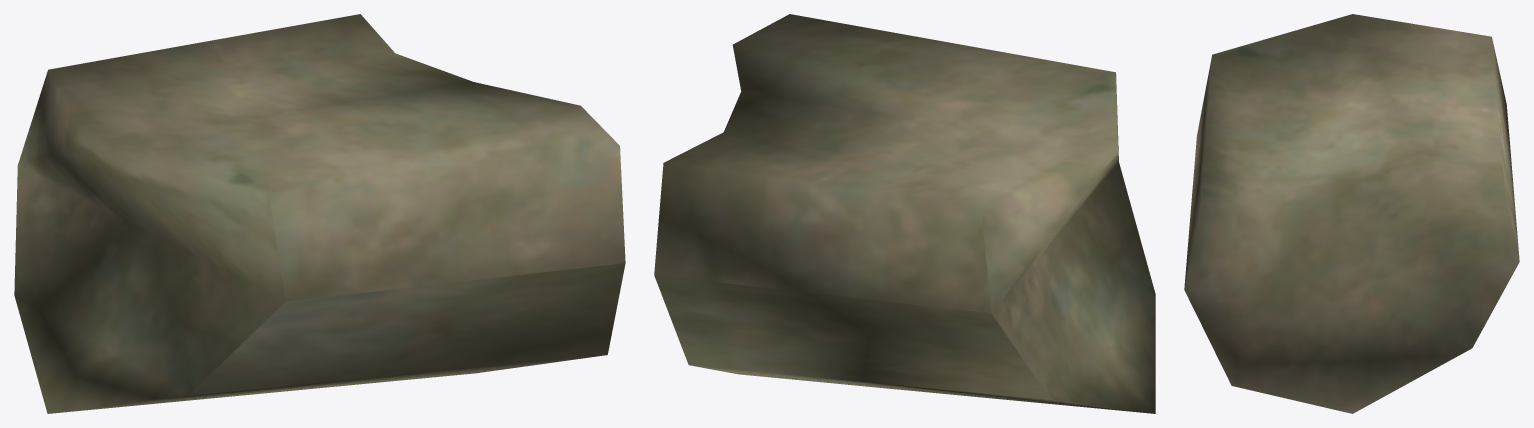
Rendered from ANIMATEDINSTANCES_CAVE_BRIDGE_203__AI.fbx.
3 renders of one model, left to right at view 1: azimuth 30°, elevation 25°; view 2: azimuth 150°, elevation 25°; view 3: azimuth 270°, elevation 25°, orthographic. The views are drawn at different scales.
Parts seen in each view (by area): view 1: ANIMATEDINSTANCES_CAVE_BRIDGE_203__AI; view 2: ANIMATEDINSTANCES_CAVE_BRIDGE_203__AI; view 3: ANIMATEDINSTANCES_CAVE_BRIDGE_203__AI.
Boxes of the visible parts, x1,y1,x2,y2 form: ANIMATEDINSTANCES_CAVE_BRIDGE_203__AI: (14, 14, 625, 413); ANIMATEDINSTANCES_CAVE_BRIDGE_203__AI: (654, 14, 1155, 413); ANIMATEDINSTANCES_CAVE_BRIDGE_203__AI: (1184, 14, 1519, 413).
Bounding box in the file's own units: 11107 × 7116 × 8579.
1 material, 1 textured.
